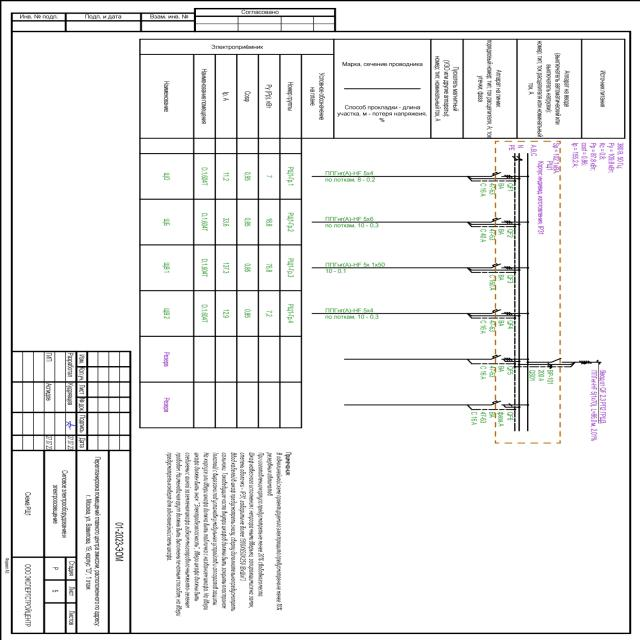-: (534, 158, 552, 234), (476, 180, 504, 196), (477, 319, 505, 335), (476, 365, 504, 381), (477, 226, 505, 242), (466, 411, 494, 426), (536, 368, 553, 384), (487, 274, 504, 290)
QF: (489, 260, 514, 270), (488, 352, 512, 362), (489, 214, 513, 223), (490, 306, 514, 315), (488, 170, 512, 179), (489, 399, 512, 407)
QS: (550, 356, 568, 363)
